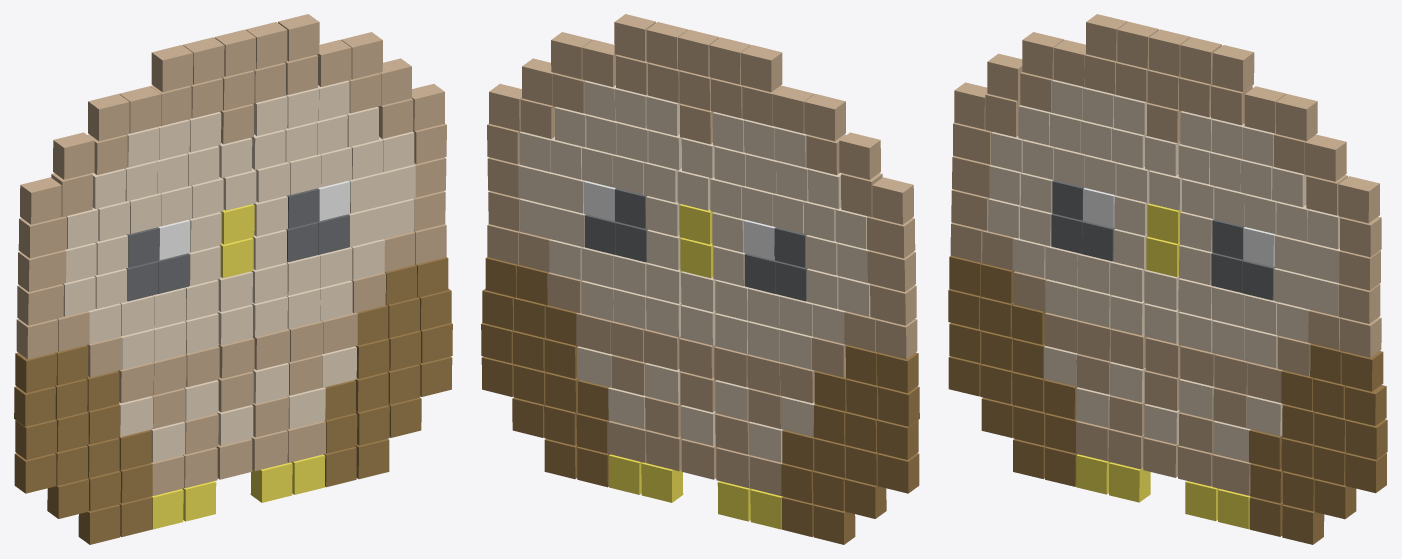
3 renders of one model, left to right at view 1: azimuth 30°, elevation 25°; view 2: azimuth 150°, elevation 25°; view 3: azimuth 330°, elevation 25°, orthographic.
Visible parts, largest first — view 1: Object_3, Object_2, Object_7, Object_5, Object_6, Object_4; view 2: Object_3, Object_2, Object_7, Object_5, Object_6, Object_4; view 3: Object_3, Object_2, Object_7, Object_5, Object_6, Object_4.
Part boxes in pixels (<box>): Object_3: <box>62,80,415,462</box>; Object_2: <box>16,14,446,496</box>; Object_7: <box>14,257,452,544</box>; Object_5: <box>151,204,325,529</box>; Object_6: <box>126,188,349,301</box>; Object_4: <box>158,180,350,259</box>; Object_3: <box>518,80,871,462</box>; Object_2: <box>487,14,917,496</box>; Object_7: <box>481,257,919,544</box>; Object_5: <box>608,204,782,529</box>; Object_6: <box>584,188,807,301</box>; Object_4: <box>583,180,775,259</box>; Object_3: <box>988,79,1340,462</box>; Object_2: <box>950,14,1381,495</box>; Object_7: <box>948,256,1387,544</box>; Object_5: <box>1076,203,1250,529</box>; Object_6: <box>1051,180,1274,300</box>; Object_4: <box>1083,188,1276,267</box>.
Bounding box in the file's own units: 134 × 140 × 6.
